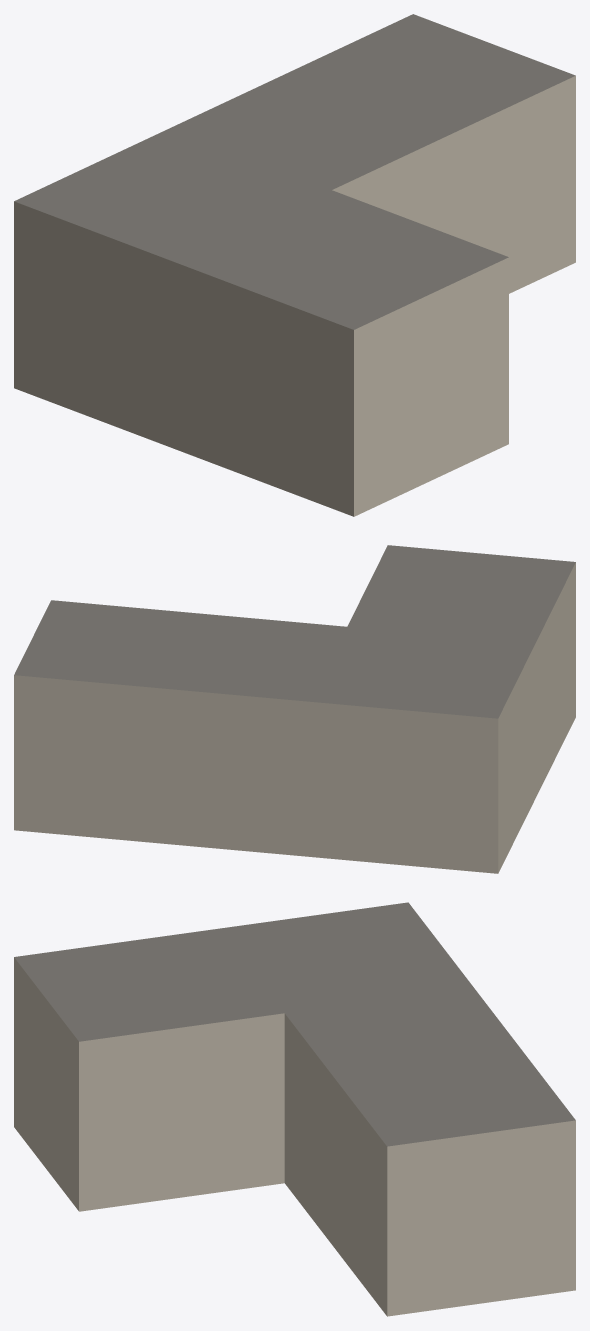
3 views of the same model, one above another, from view 1: azimuth 30°, elevation 25°; view 2: azimuth 150°, elevation 25°; view 3: azimuth 270°, elevation 25° (orthographic). The views are drawn at different scales.
Parts seen in each view (by area): view 1: HP-w859457481; view 2: HP-w859457481; view 3: HP-w859457481.
Boxes of the visible parts, box(x1,y1,x2,y2) form: HP-w859457481: box(14, 14, 575, 516); HP-w859457481: box(14, 545, 575, 873); HP-w859457481: box(14, 902, 575, 1316).
Size of the model in its own units: 55.46 by 18 by 53.93.
